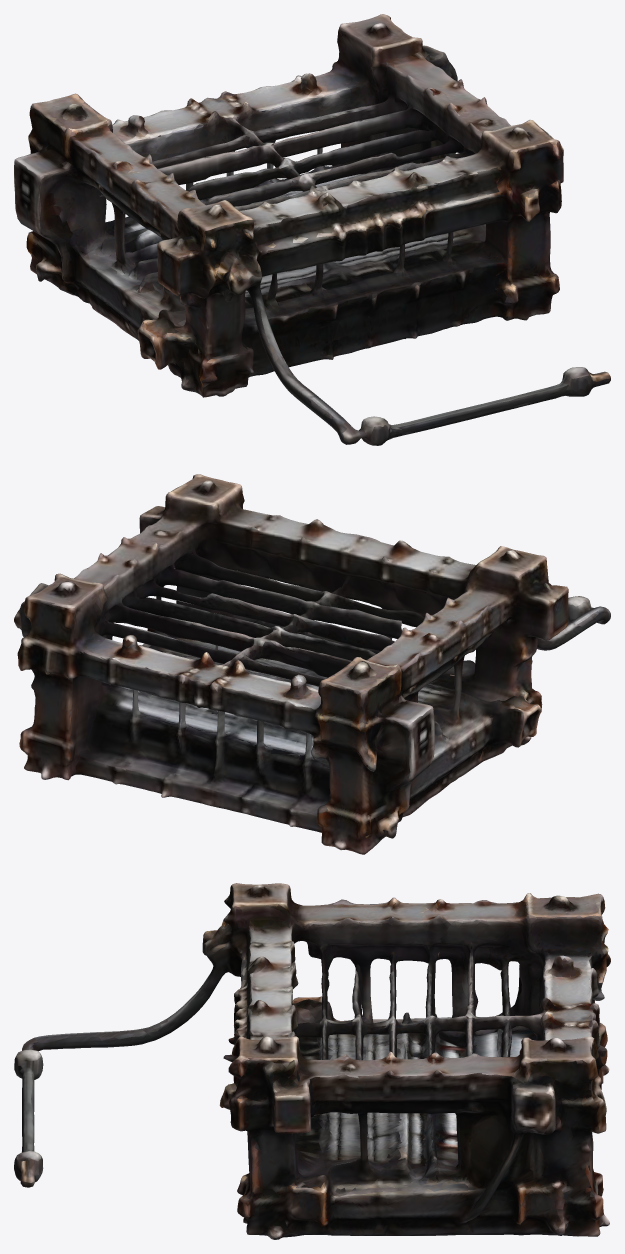
File: metalcrate.glb
3 views of the same model, one above another, from view 1: azimuth 30°, elevation 25°; view 2: azimuth 150°, elevation 25°; view 3: azimuth 270°, elevation 25° (orthographic). The views are drawn at different scales.
Visible parts, largest first — view 1: input; view 2: input; view 3: input.
Part boxes in pixels (x1,y1,x2,y2): input: (14,14,610,445); input: (14,474,610,854); input: (14,883,610,1239).
Bounding box in the file's own units: 0.6636 × 0.2858 × 0.8.
Materials: 1 (1 with a texture image).
